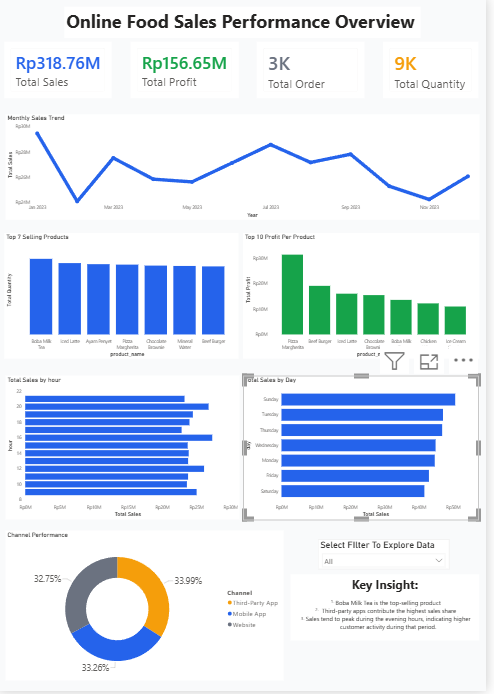

The dashboard page shown, as its layout file describes it:
{"tool":"powerbi","page":{"name":"Page 1","canvas":[1300,1850],"ordinal":0},"visuals":[{"type":"cardVisual","fields":{"Data":["online_food_sales_dataset.Total Sales"]},"box":[17.7,116.8,286,150],"z":0},{"type":"cardVisual","fields":{"Data":["online_food_sales_dataset.Total Profit"]},"box":[352.9,117.3,288.8,150],"z":1000},{"type":"cardVisual","fields":{"Data":["online_food_sales_dataset.Total Order"]},"box":[690.9,117.3,287.5,150],"z":2000},{"type":"cardVisual","fields":{"Data":["online_food_sales_dataset.Total Quantity"]},"box":[1027.7,116.8,254,150],"z":3000},{"type":"lineChart","title":"Monthly Sales Trend","fields":{"Y":["online_food_sales_dataset.Total Sales"],"Category":["online_food_sales_dataset.order_date.Variation.Date Hierarchy.Year","online_food_sales_dataset.order_date.Variation.Date Hierarchy.Month"]},"box":[18.6,310,1264.3,281.4],"z":4000},{"type":"clusteredColumnChart","title":"Top 7 Selling Products","fields":{"Category":["online_food_sales_dataset.product_name"],"Y":["online_food_sales_dataset.Total Quantity"]},"box":[17.2,627.1,624.4,335.6],"z":5000},{"type":"clusteredColumnChart","title":"Top 10 Profit Per Product","fields":{"Category":["online_food_sales_dataset.product_name"],"Y":["online_food_sales_dataset.Total Profit"]},"box":[651.7,627.1,630,335.6],"z":6000},{"type":"donutChart","title":"Channel Performance","fields":{"Category":["online_food_sales_dataset.order_channel"],"Y":["online_food_sales_dataset.Total Sales"]},"box":[18.6,1421.4,741.4,400],"z":7000},{"type":"barChart","fields":{"Category":["online_food_sales_dataset.hour"],"Y":["online_food_sales_dataset.Total Sales"]},"box":[18.8,1007.5,624.3,384.3],"z":8000},{"type":"slicer","title":"Select FIlter To Explore Data","fields":{"Values":["online_food_sales_dataset.city","online_food_sales_dataset.Month","online_food_sales_dataset.customer_type"]},"box":[853.3,1443.3,350,80],"z":9000},{"type":"barChart","title":"Total Sales by Day","fields":{"Y":["online_food_sales_dataset.Total Sales"],"Category":["online_food_sales_dataset.day"]},"box":[653,1007.5,630,384.3],"z":10000},{"type":"textbox","box":[176.7,23.3,950,83.3],"z":11000},{"type":"textbox","box":[780,1537.1,502.9,177.1],"z":11001}]}

Visuals, with their boxes in screenshot pixels (x1, y1, x2, y2), scaled from the page's 1300x1850 canvas onto the 494x694 screenshot:
cardVisual - online_food_sales_dataset.Total Sales: x1=7, y1=44, x2=115, y2=100
cardVisual - online_food_sales_dataset.Total Profit: x1=134, y1=44, x2=244, y2=100
cardVisual - online_food_sales_dataset.Total Order: x1=263, y1=44, x2=372, y2=100
cardVisual - online_food_sales_dataset.Total Quantity: x1=391, y1=44, x2=487, y2=100
"Monthly Sales Trend" lineChart: x1=7, y1=116, x2=488, y2=222
"Top 7 Selling Products" clusteredColumnChart: x1=7, y1=235, x2=244, y2=361
"Top 10 Profit Per Product" clusteredColumnChart: x1=248, y1=235, x2=487, y2=361
"Channel Performance" donutChart: x1=7, y1=533, x2=289, y2=683
barChart - online_food_sales_dataset.hour x online_food_sales_dataset.Total Sales: x1=7, y1=378, x2=244, y2=522
"Select FIlter To Explore Data" slicer: x1=324, y1=541, x2=457, y2=571
"Total Sales by Day" barChart: x1=248, y1=378, x2=488, y2=522
textbox: x1=67, y1=9, x2=428, y2=40
textbox: x1=296, y1=577, x2=488, y2=643
